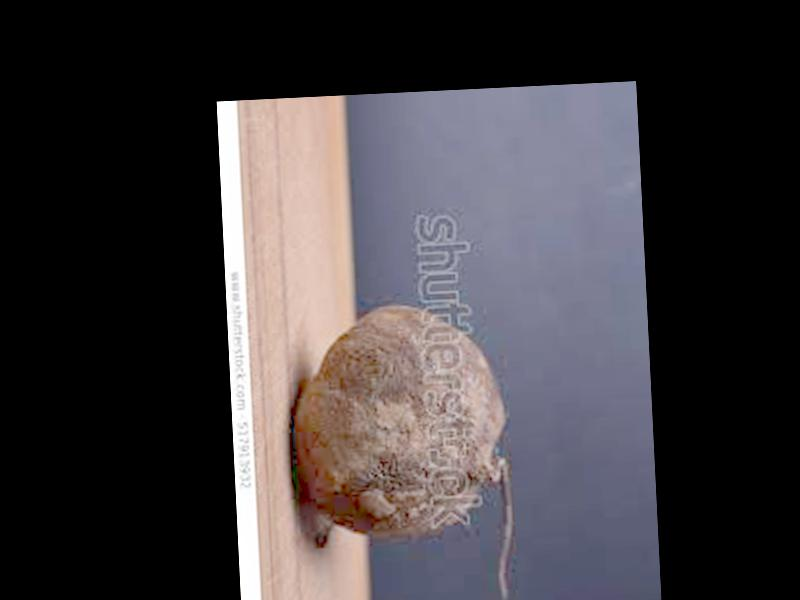Beet: (289, 301, 518, 600)
